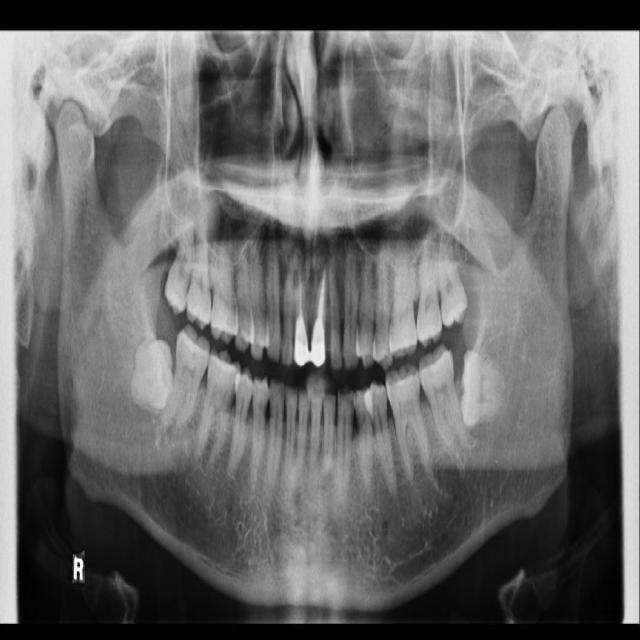3M ESPE Implant: (161, 215, 200, 316)
52: (293, 308, 311, 366), (310, 318, 326, 366)
73: (312, 262, 333, 328), (292, 253, 307, 327), (600, 582, 608, 604)
BioHorizons Implant: (416, 225, 442, 347)
BioLife Implant: (434, 214, 470, 328)
Biomet 3i Implant: (458, 349, 502, 430)
Blue Sky Bio Implant: (414, 342, 470, 453)
Caries: (185, 225, 212, 332)
Implant: (159, 322, 215, 435)
Keystone Dental Implant: (126, 335, 180, 412)
